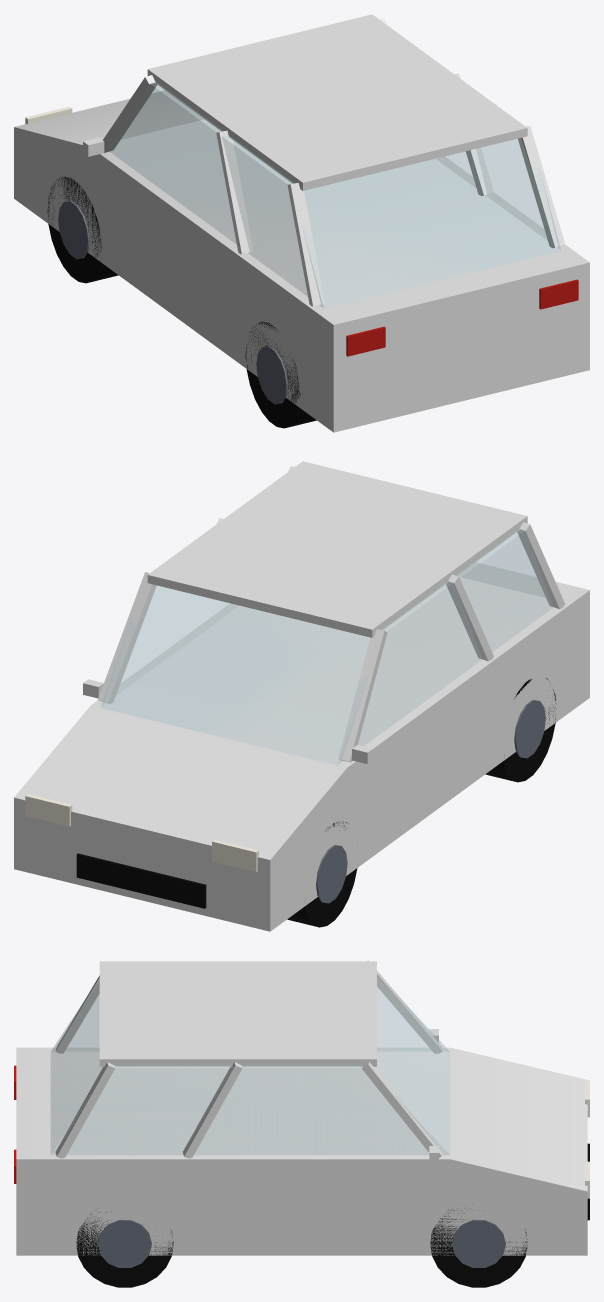
Rendered from vehicle.car.city_white.glb.
3 views of the same model, one above another, from view 1: azimuth 30°, elevation 25°; view 2: azimuth 150°, elevation 25°; view 3: azimuth 270°, elevation 25° (orthographic). The views are drawn at different scales.
Visible parts, largest first — view 1: main__car_white, main__glass, main__rubber, main__steel_painted, main__hazard_red; view 2: main__car_white, main__glass, main__plastic_black, main__rubber, main__steel_painted, main__light_emitter; view 3: main__car_white, main__glass, main__rubber, main__steel_painted.
Part boxes in pixels (x1,y1,x2,y2): main__car_white: (14, 14, 589, 432); main__glass: (109, 82, 560, 308); main__rubber: (47, 176, 316, 428); main__steel_painted: (58, 201, 287, 404); main__hazard_red: (346, 279, 578, 356); main__car_white: (14, 461, 589, 931); main__glass: (100, 529, 552, 764); main__plastic_black: (76, 853, 206, 908); main__rubber: (287, 678, 556, 927); main__steel_painted: (316, 700, 545, 903); main__light_emitter: (25, 794, 258, 871); main__car_white: (16, 960, 587, 1255); main__glass: (51, 978, 449, 1154); main__rubber: (76, 1208, 527, 1287); main__steel_painted: (98, 1220, 505, 1267).
Bounding box in the file's own units: 1.8 × 1.5 × 3.53.
